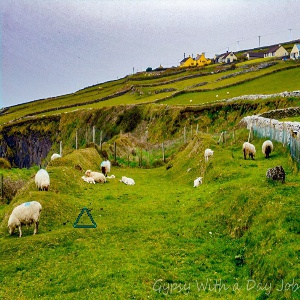triangle: (69, 206, 97, 230)
